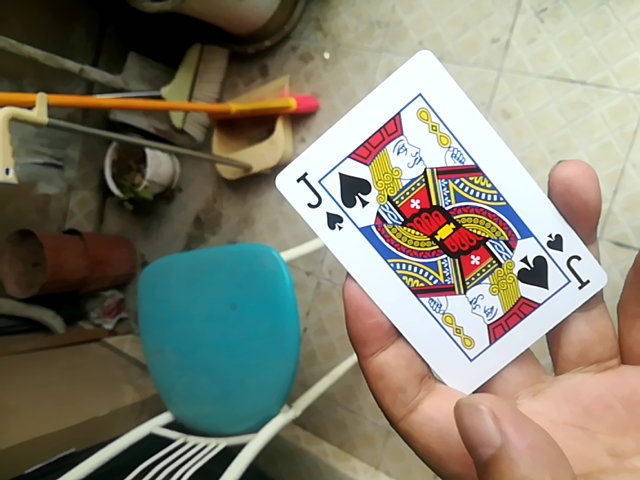ht j: (265, 56, 607, 400)
